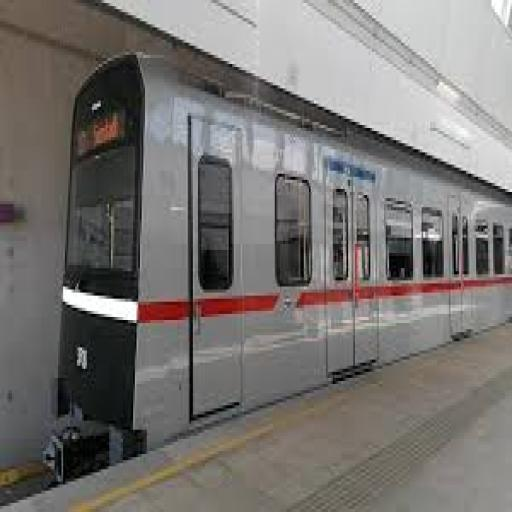X-Wagen: (44, 37, 509, 466)
